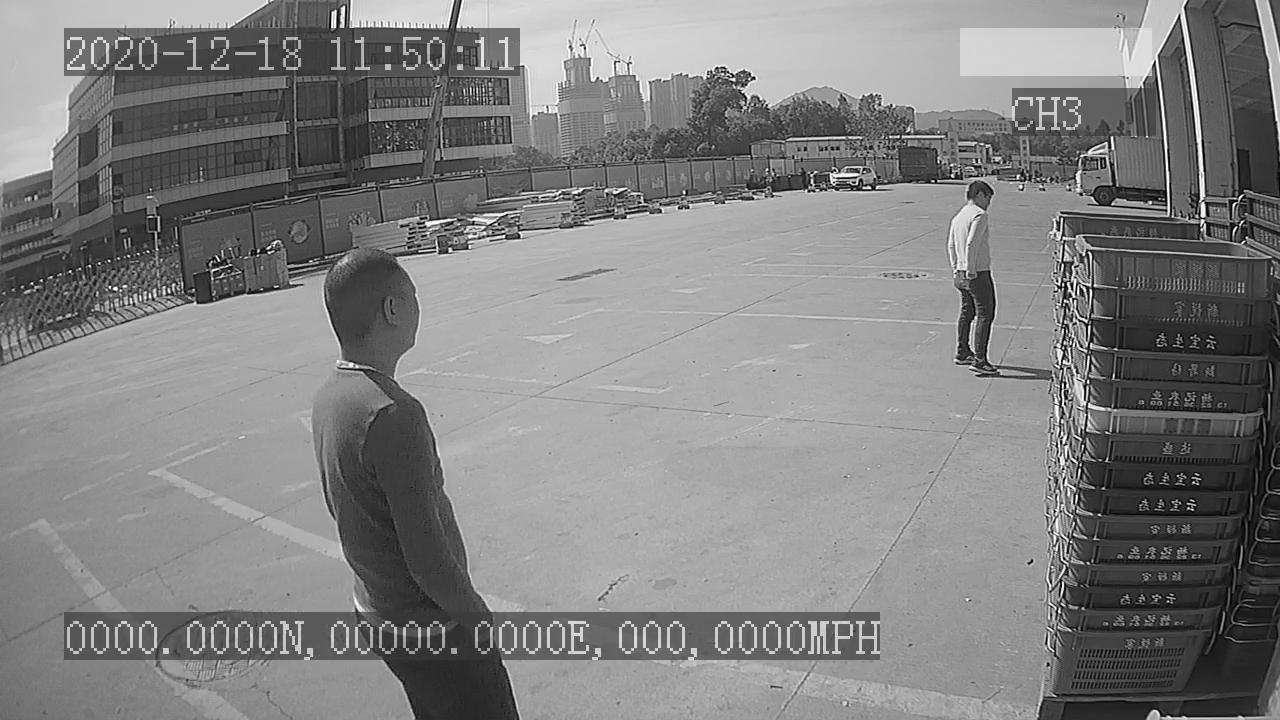person: (942, 177, 1008, 379)
